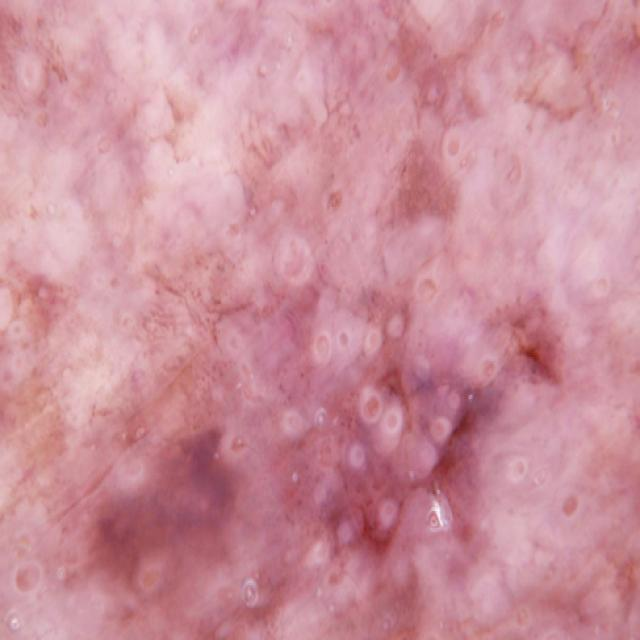Keratosis: (0, 103, 214, 600), (278, 326, 499, 640), (454, 152, 640, 376)
